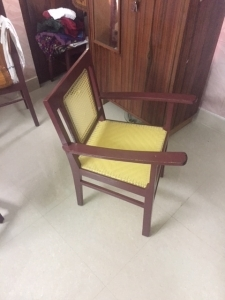chair: (43, 47, 196, 237)
